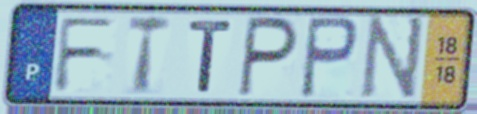F: (52, 15, 120, 95)
N: (356, 14, 428, 105)
P: (235, 13, 301, 101), (297, 14, 361, 102)
T: (124, 13, 174, 98), (186, 18, 236, 95)
